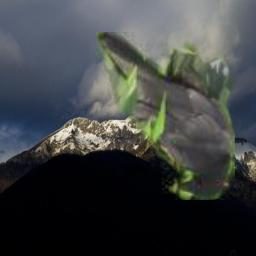Crow: (96, 32, 235, 200)
